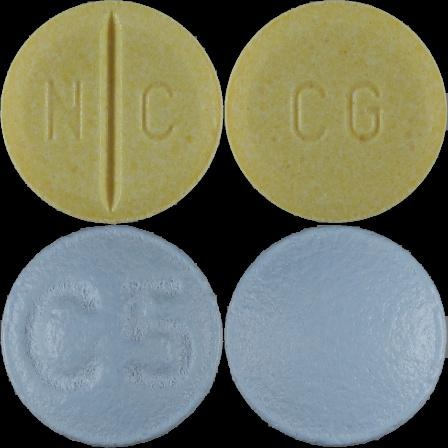0078-0568: (0, 0, 224, 224)
